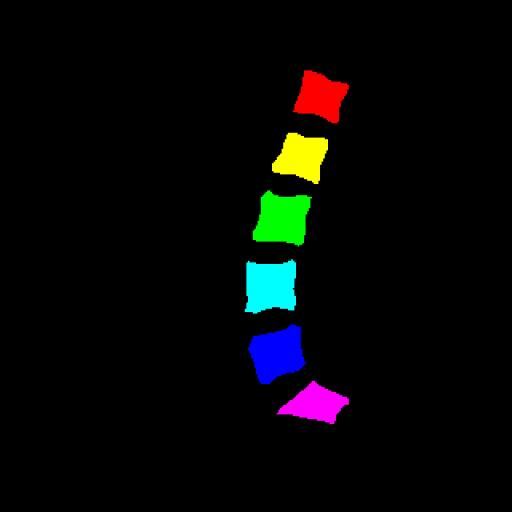L1: (293, 70, 349, 123)
L2: (272, 133, 328, 184)
L3: (253, 191, 311, 246)
L4: (245, 260, 296, 312)
L5: (248, 325, 305, 384)
S1: (277, 381, 349, 424)
